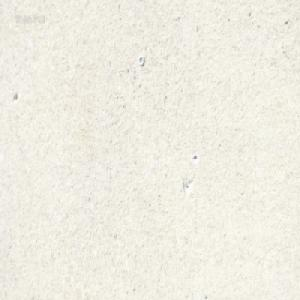Washer: (138, 55, 144, 65)
